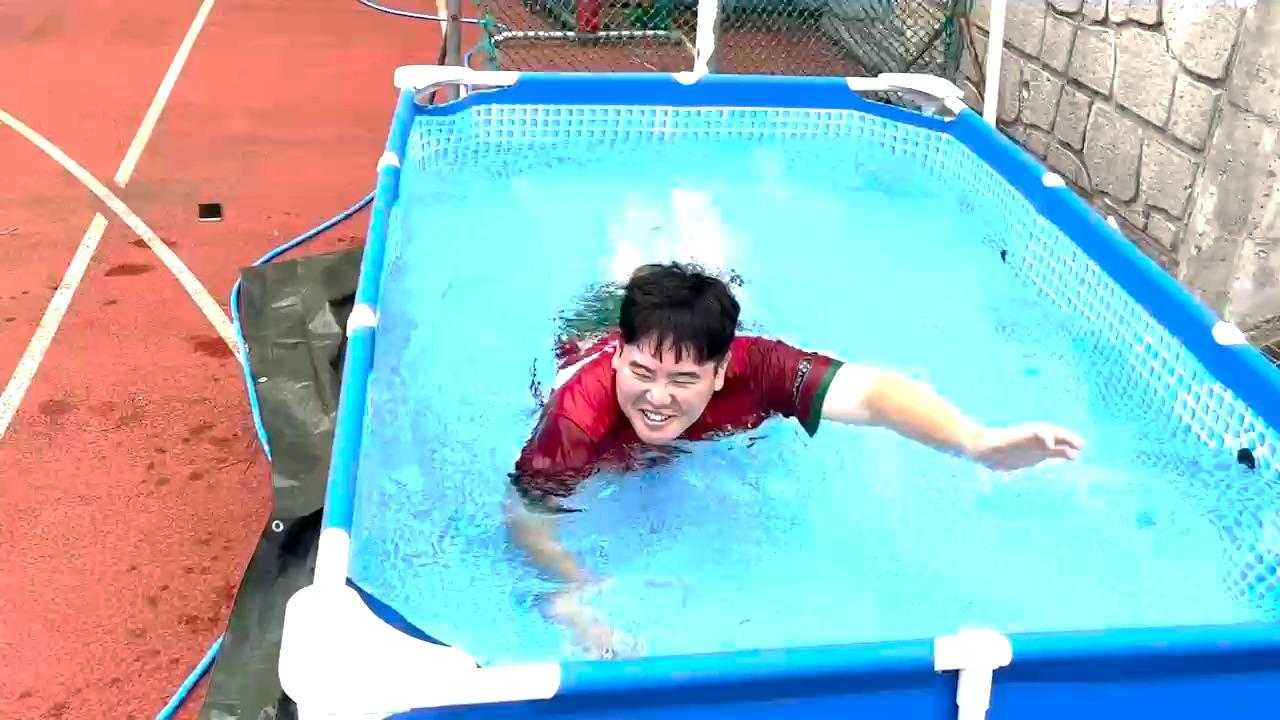Swimming: (523, 120, 1062, 632)
